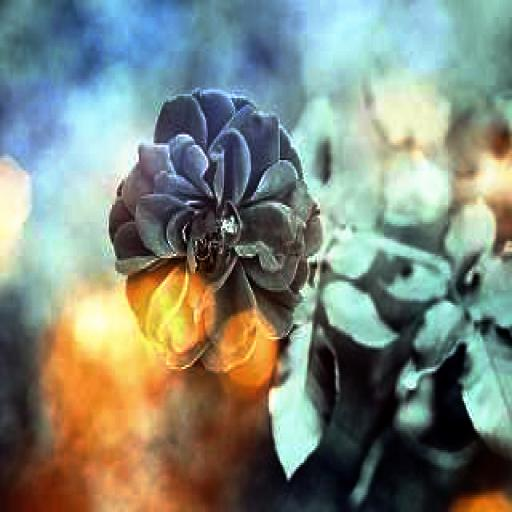rose: (107, 87, 317, 380)
